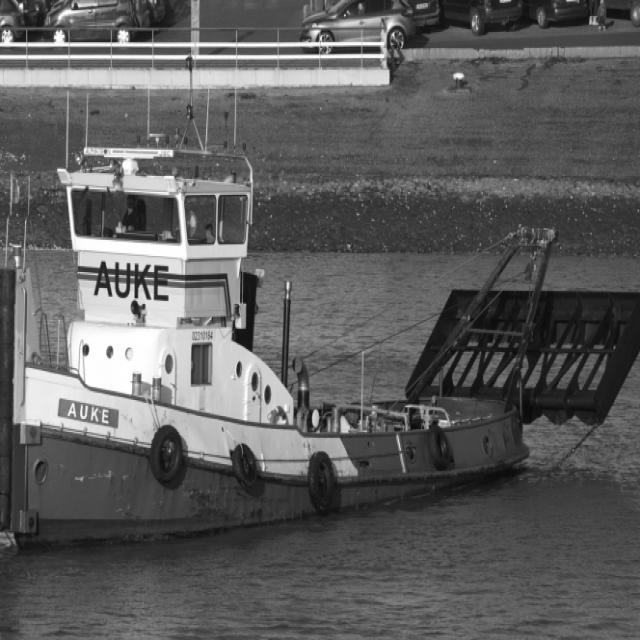tugboat: (1, 132, 640, 562)
